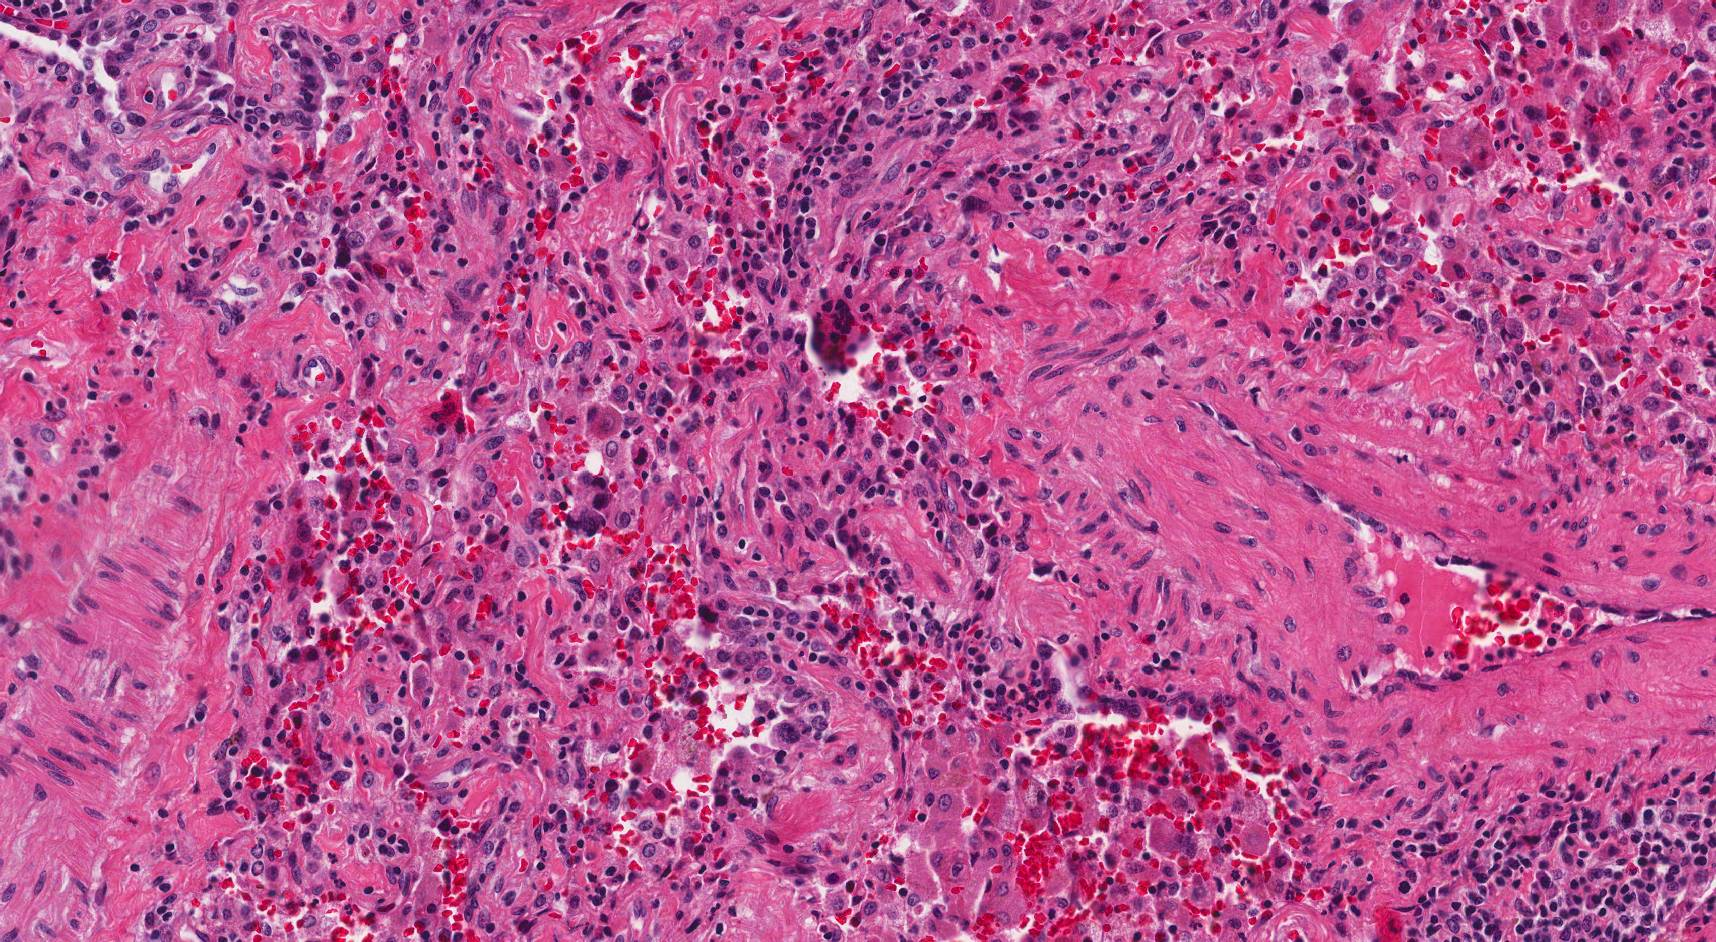stas: (563, 470, 611, 537)
